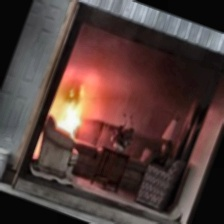fire: (46, 71, 97, 136)
